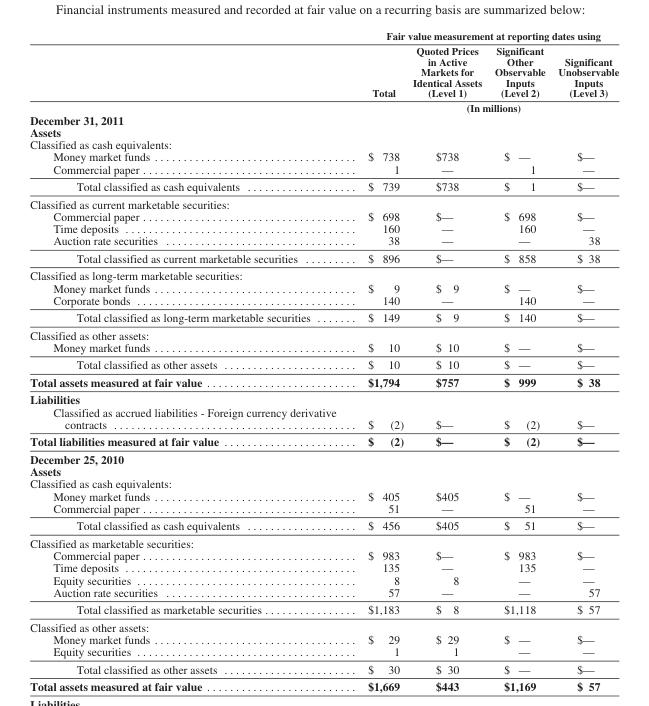table: (29, 29, 618, 675)
table column: (29, 29, 351, 675), (407, 29, 487, 675), (551, 29, 618, 675), (487, 29, 551, 675), (351, 29, 407, 675)
table column header: (29, 29, 618, 113)
table projected row header: (29, 194, 618, 209), (29, 266, 618, 281), (29, 390, 618, 405), (29, 449, 618, 464), (29, 326, 618, 340), (29, 534, 618, 548), (29, 618, 618, 632), (29, 125, 618, 138), (29, 464, 618, 477), (29, 113, 618, 125), (29, 138, 618, 150), (29, 477, 618, 489)
table row: (29, 43, 618, 99), (29, 405, 618, 432), (29, 308, 618, 326), (29, 355, 618, 373), (29, 516, 618, 534), (29, 600, 618, 618), (29, 177, 618, 194), (29, 249, 618, 266), (29, 373, 618, 390), (29, 432, 618, 449), (29, 162, 618, 177), (29, 194, 618, 209), (29, 234, 618, 249), (29, 266, 618, 281), (29, 293, 618, 308), (29, 340, 618, 355), (29, 390, 618, 405), (29, 449, 618, 464), (29, 501, 618, 516), (29, 585, 618, 600), (29, 645, 618, 660), (29, 660, 618, 675), (29, 29, 618, 43), (29, 99, 618, 113), (29, 326, 618, 340), (29, 534, 618, 548), (29, 618, 618, 632), (29, 125, 618, 138), (29, 209, 618, 222), (29, 464, 618, 477), (29, 548, 618, 561), (29, 632, 618, 645), (29, 113, 618, 125), (29, 138, 618, 150), (29, 150, 618, 162), (29, 222, 618, 234), (29, 281, 618, 293), (29, 477, 618, 489), (29, 489, 618, 501), (29, 561, 618, 573), (29, 573, 618, 585)
table spanning cell: (351, 29, 618, 43), (351, 99, 618, 113)
